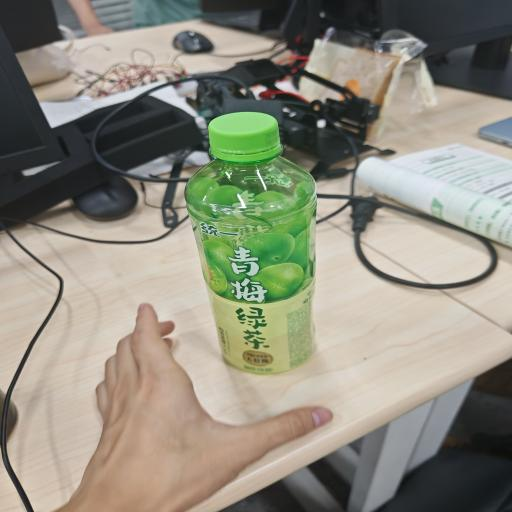mouse: (73, 176, 138, 220), (172, 31, 213, 53)
